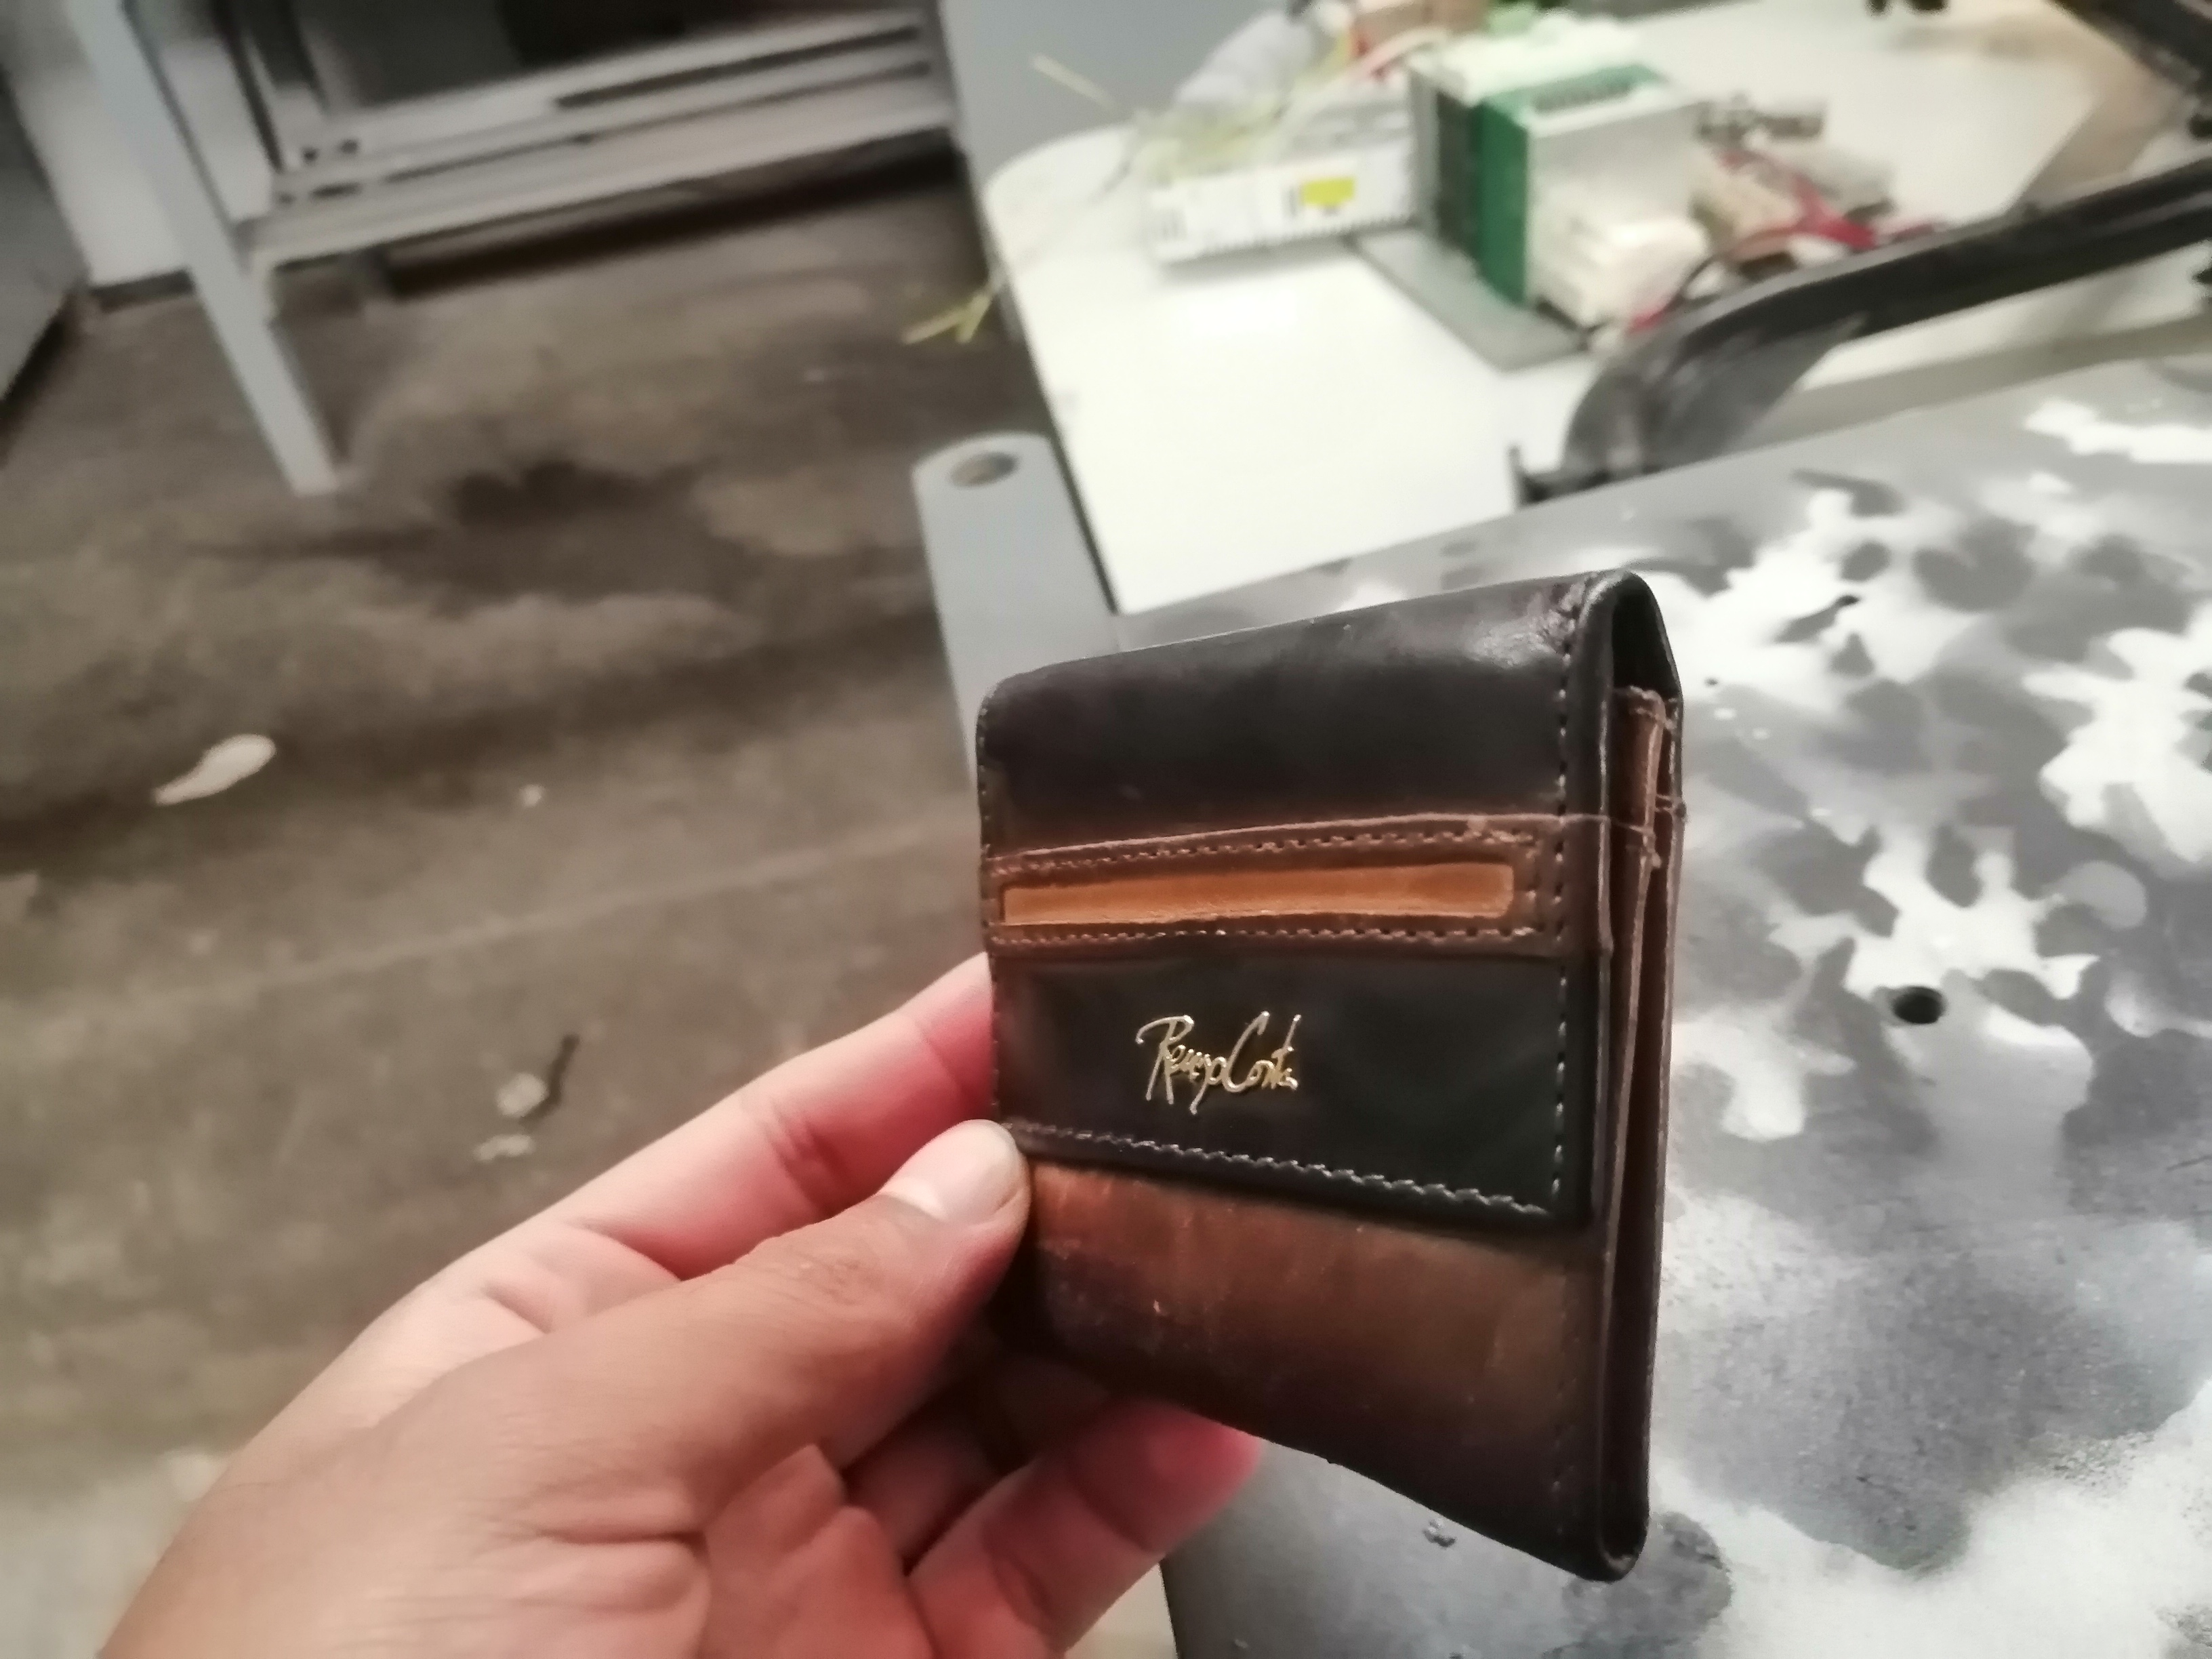monedero: (965, 561, 1695, 1603)
